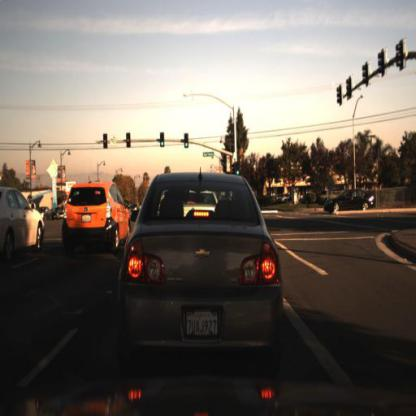car: (109, 165, 301, 362), (51, 168, 141, 279), (0, 169, 47, 270), (61, 180, 130, 248), (320, 182, 379, 222), (8, 186, 46, 223)
trafficLight: (124, 132, 132, 154), (102, 129, 110, 150), (159, 129, 167, 148)
trafficLight-Green: (178, 128, 192, 160), (156, 131, 165, 154), (233, 160, 241, 185), (234, 160, 242, 178)
trafficLight-Red: (182, 132, 189, 152)
trafficLight-RedLeft: (100, 129, 110, 156)
